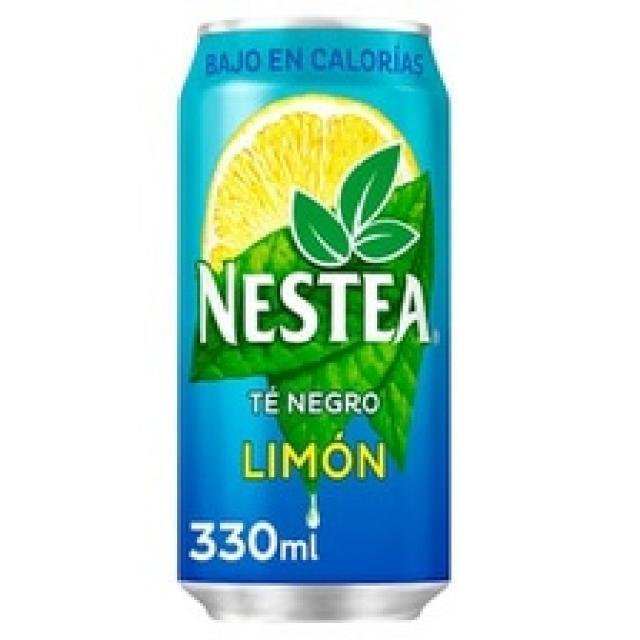recyclable: (176, 18, 450, 619)
